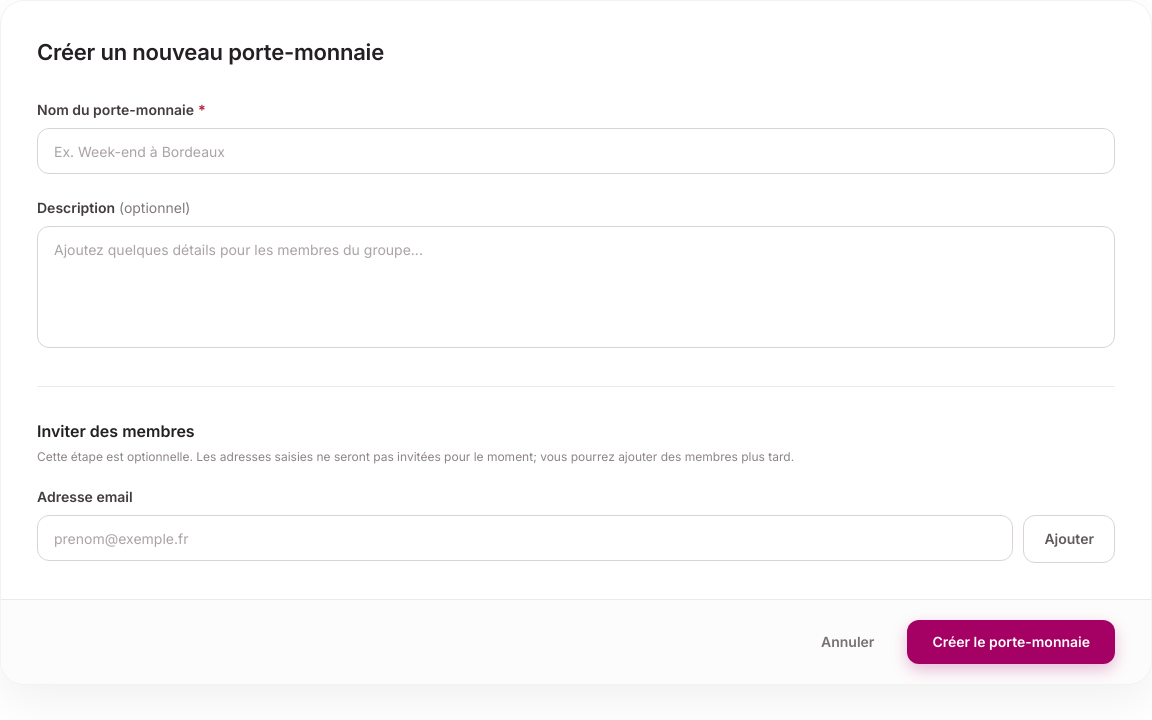
Test case: création d’un porte-monnaie › n’appelle pas l’API quand le titre est vide
Click the button "Créer le porte-monnaie": x=1011, y=642 [907,620,1115,664]
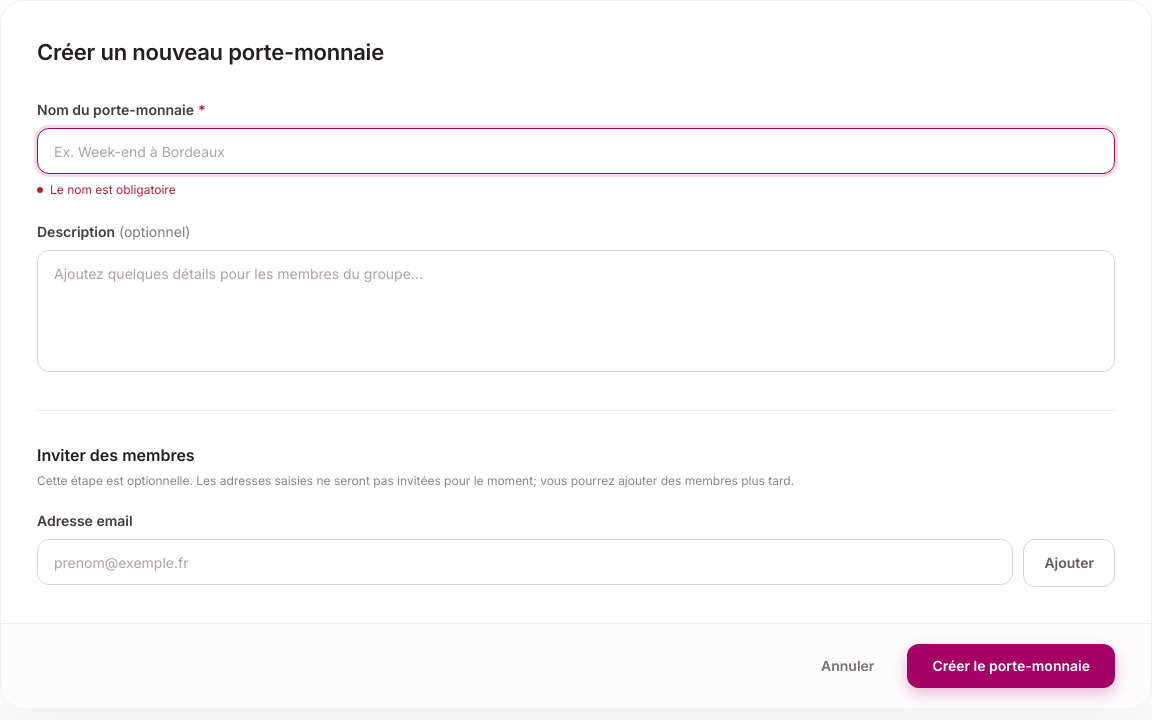
Result: the text "Le nom est obligatoire" is shown at [50,182,176,197]
